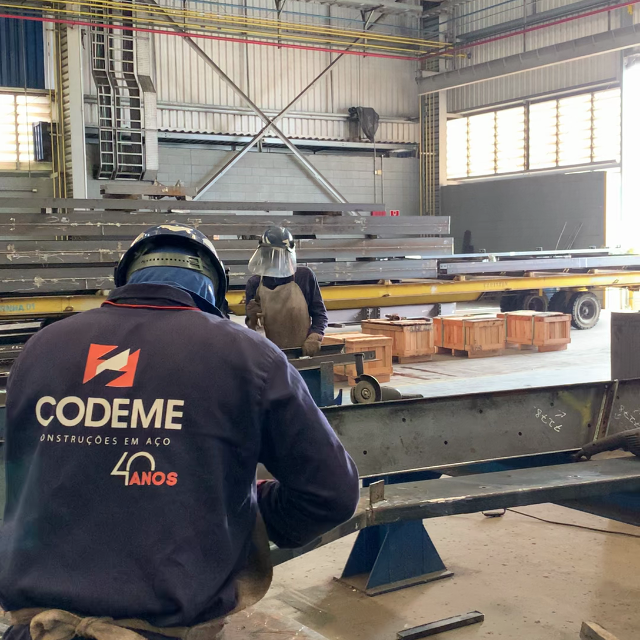face-shield: (245, 247, 298, 280)
glove: (299, 334, 326, 359)
helmet: (113, 223, 231, 303), (256, 227, 295, 248)
person: (2, 220, 365, 628), (243, 223, 329, 356)
